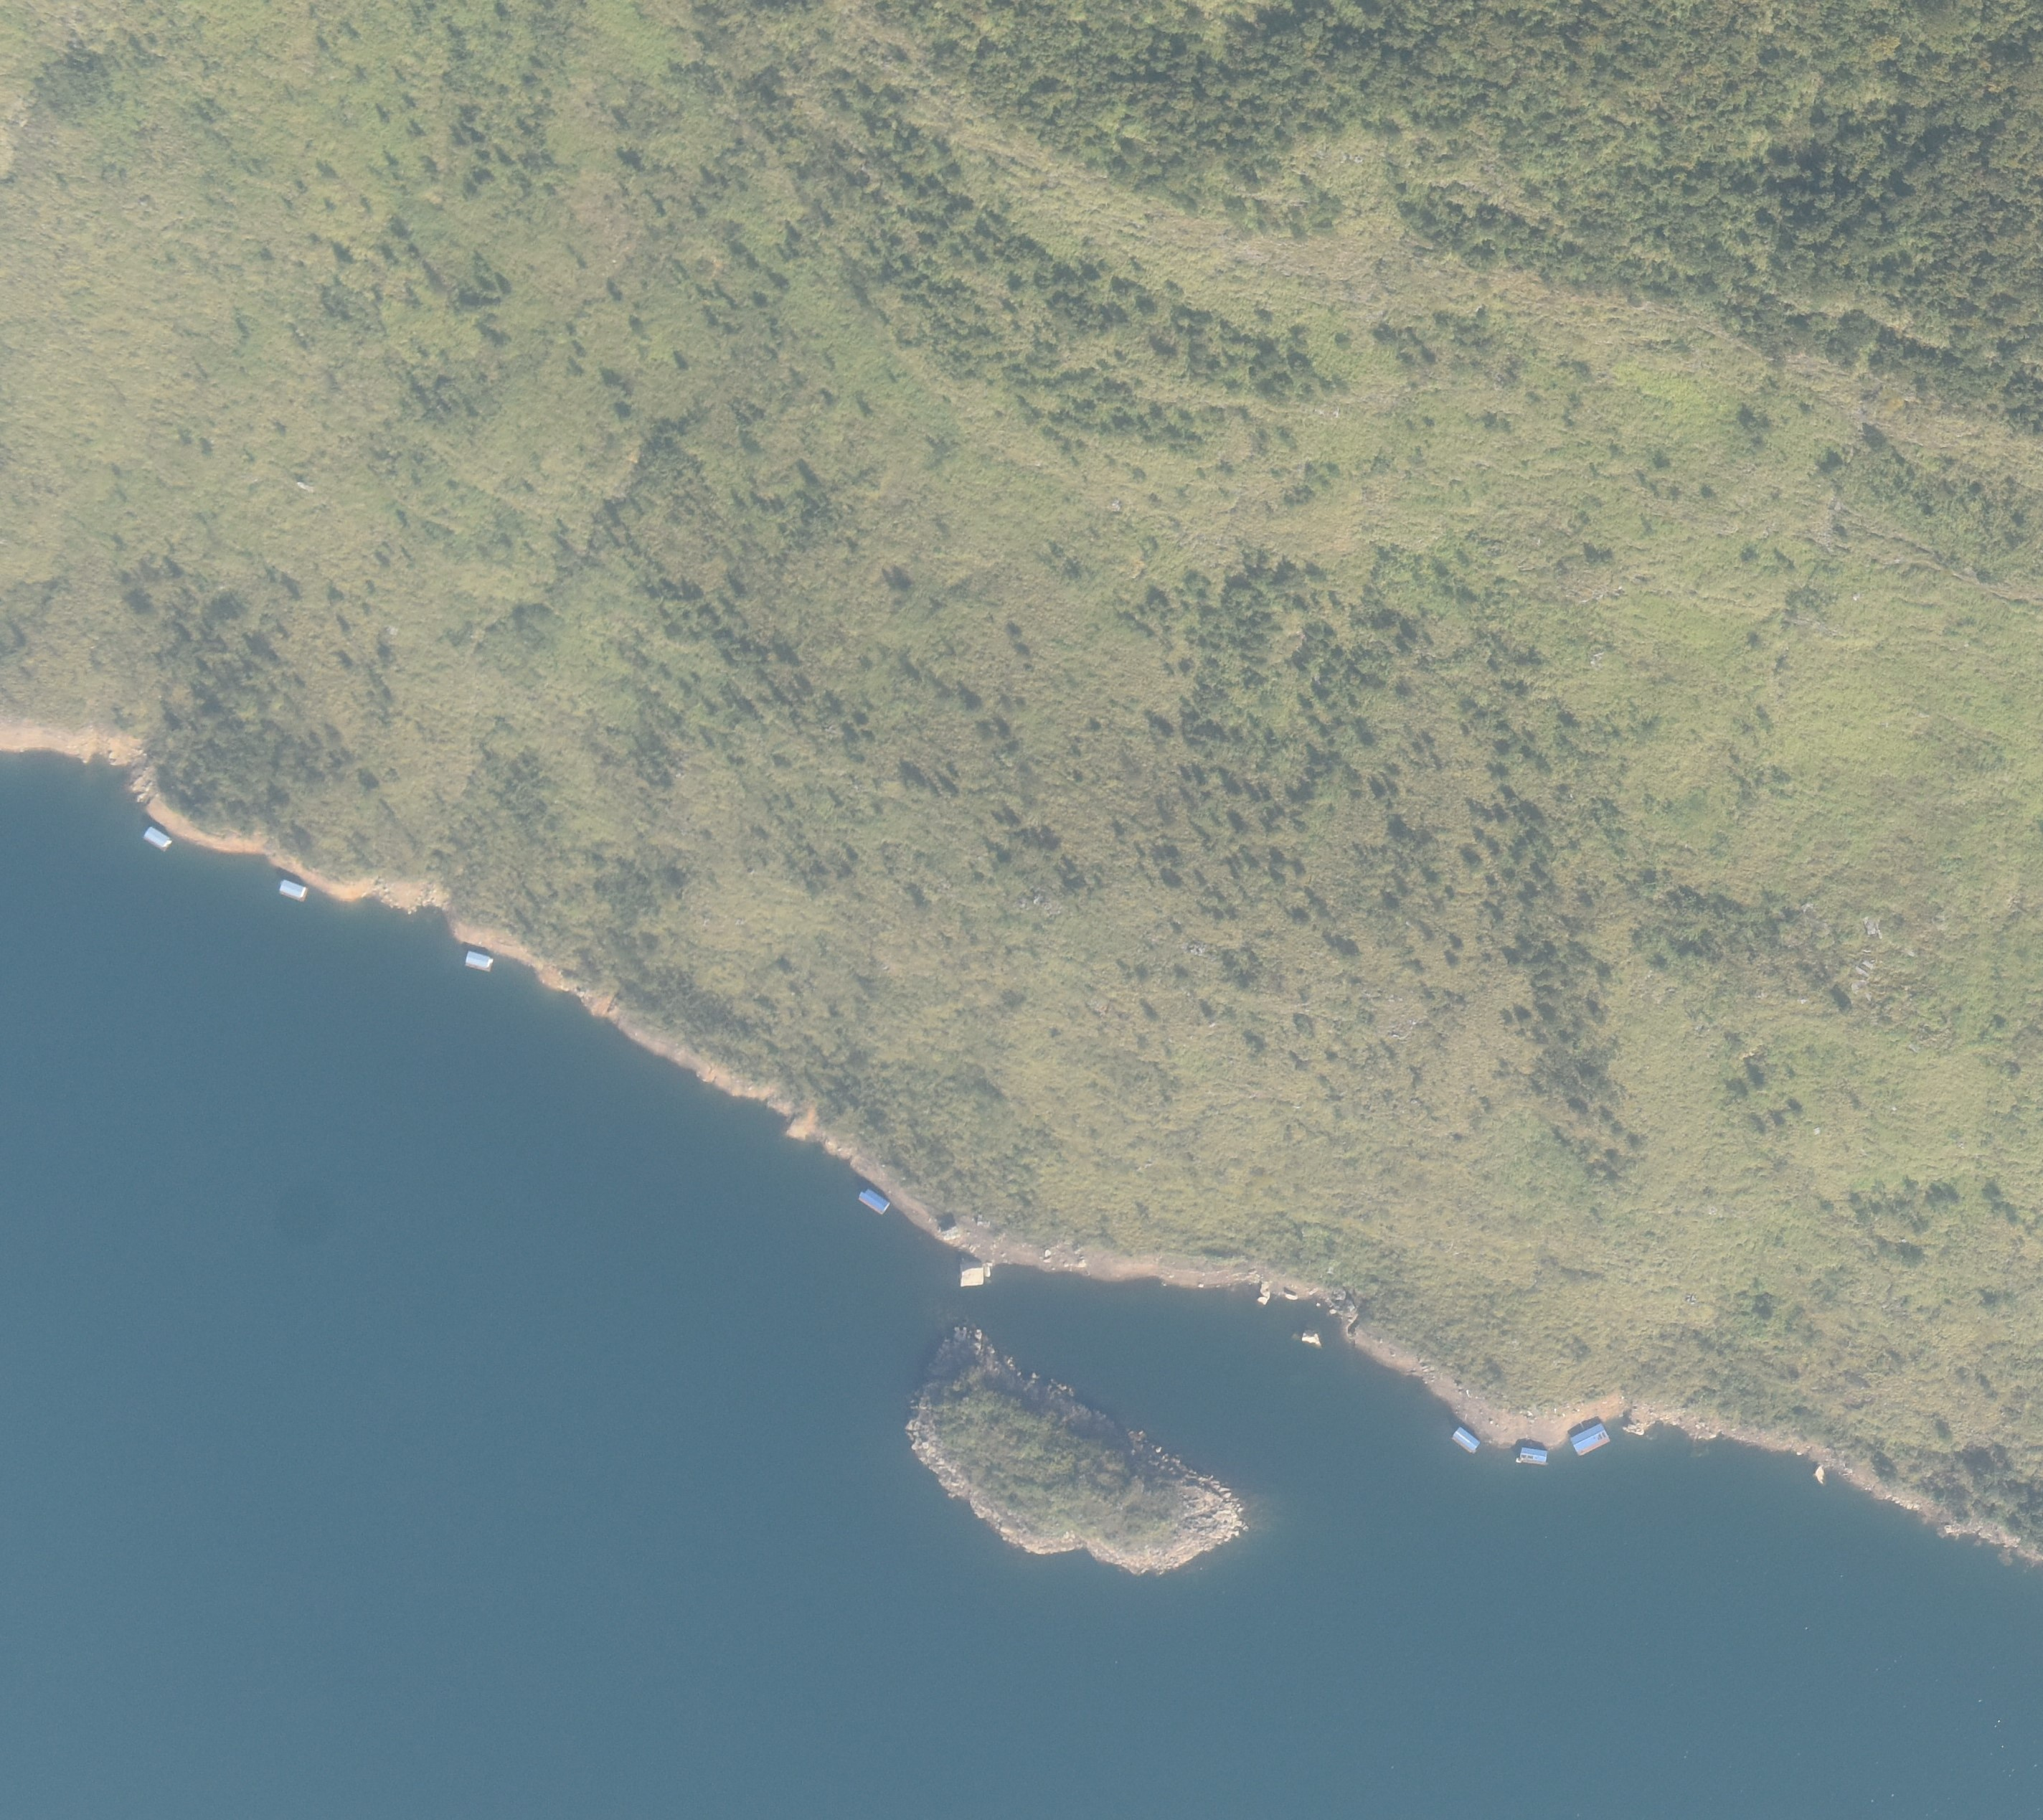prefabricated-house: (1568, 1423, 1611, 1456), (858, 1187, 890, 1215), (1449, 1427, 1478, 1455), (144, 827, 171, 851), (278, 877, 306, 898), (464, 951, 490, 973), (1519, 1447, 1546, 1467)
